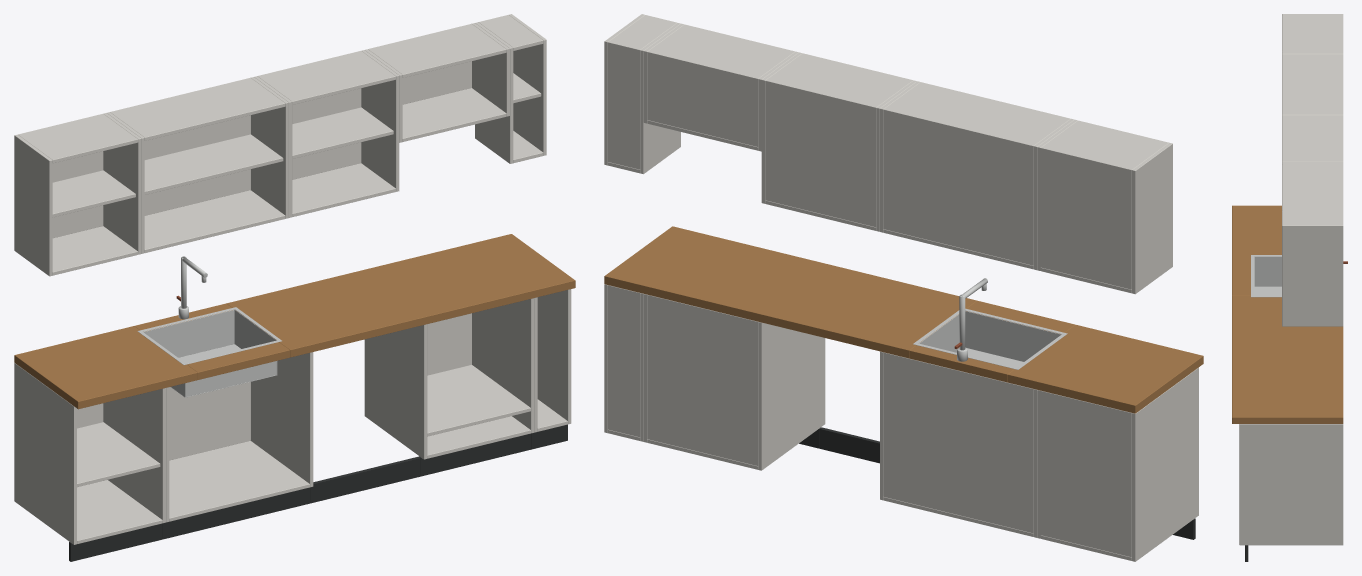
The model's file is kitchen_run_cabinets_body.glb.
The picture shows the model from 3 angles, left to right: view 1: azimuth 30°, elevation 25°; view 2: azimuth 150°, elevation 25°; view 3: azimuth 270°, elevation 25°; orthographic projection. The views are drawn at different scales.
Visible parts, largest first — view 1: kitchen_run_cabinets_body; view 2: kitchen_run_cabinets_body; view 3: kitchen_run_cabinets_body.
Boxes of the visible parts, box(x1,y1,x2,y2) form: kitchen_run_cabinets_body: box(14, 14, 575, 561); kitchen_run_cabinets_body: box(604, 14, 1203, 561); kitchen_run_cabinets_body: box(1232, 14, 1347, 561).
Size of the model in its own units: 2.7 by 2 by 0.625.
